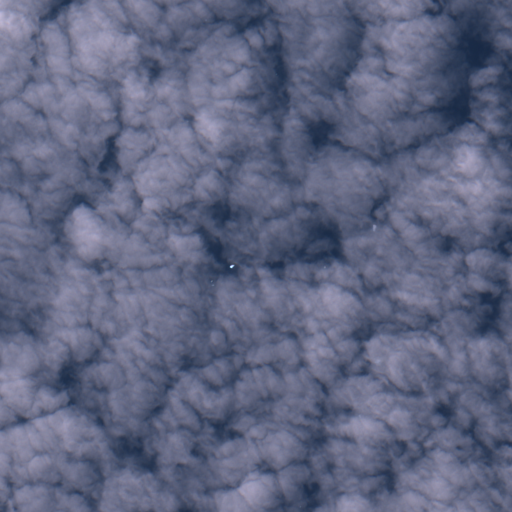Iceberg: (373, 225, 375, 230), (230, 265, 234, 267), (324, 266, 325, 268), (211, 280, 212, 282)
